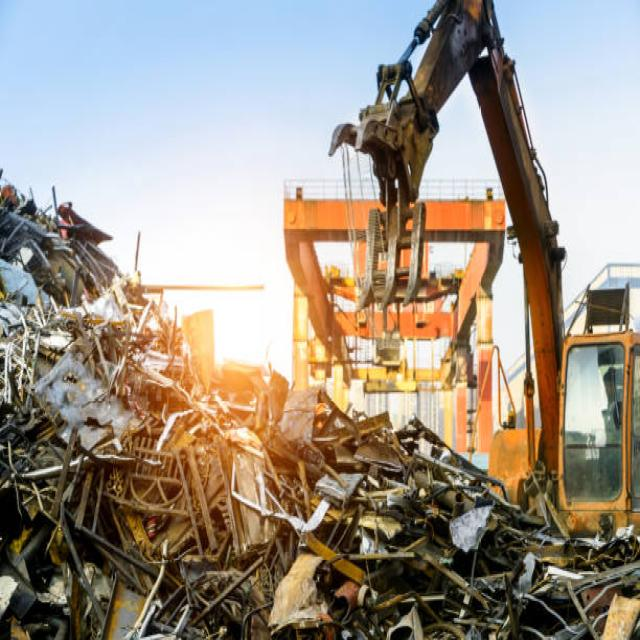metal: (1, 314, 527, 594)
